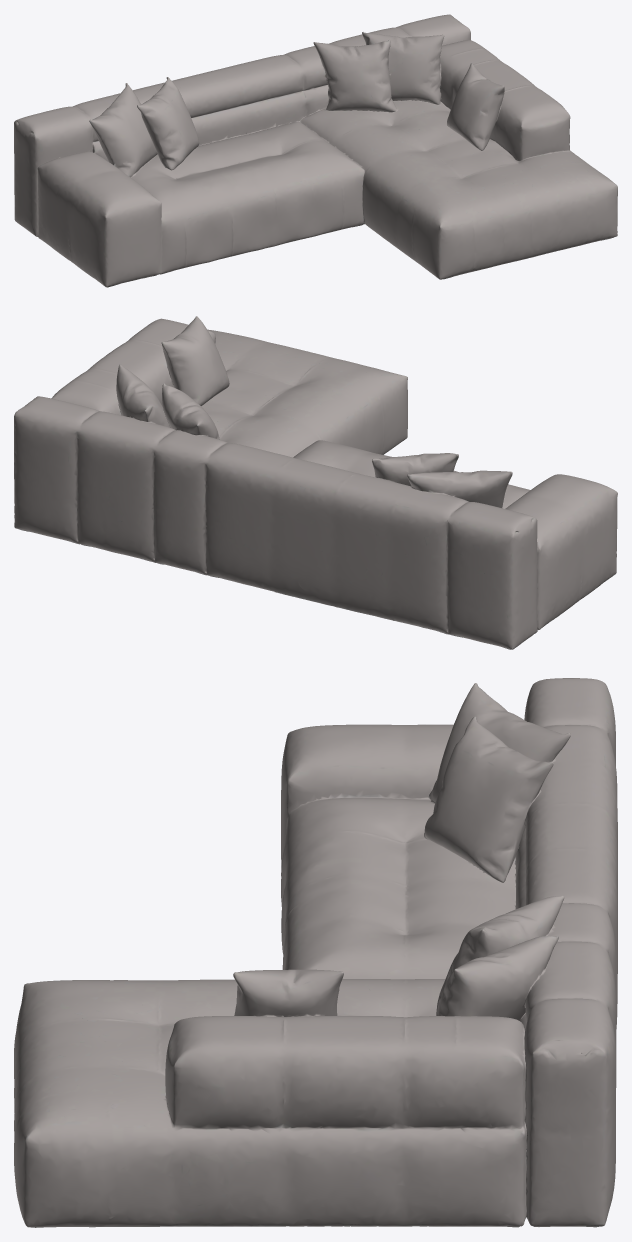
Rendered from l_shaped_modern_sectional_sofa_4jvynj.glb.
The picture shows the model from 3 angles, top to bottom: view 1: azimuth 30°, elevation 25°; view 2: azimuth 150°, elevation 25°; view 3: azimuth 270°, elevation 25°; orthographic projection. The views are drawn at different scales.
Parts seen in each view (by area): view 1: world; view 2: world; view 3: world.
Boxes of the visible parts, x1,y1,x2,y2 form: world: (14, 14, 617, 287); world: (14, 316, 617, 649); world: (14, 678, 617, 1227).
Bounding box in the file's own units: 0.9906 × 0.2686 × 0.6678.
1 material, 1 textured.
